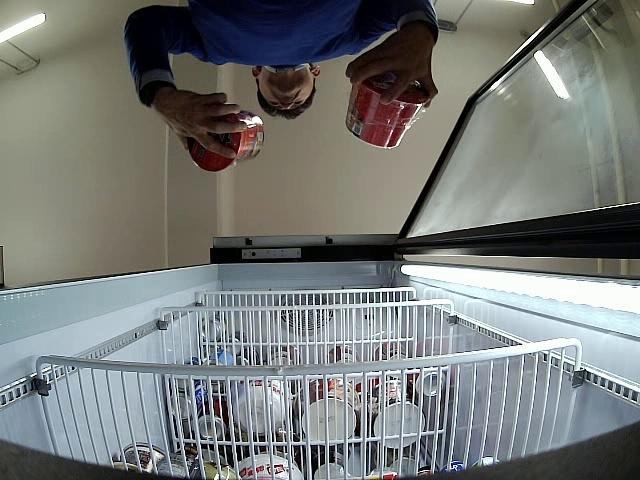00_hand: (346, 32, 437, 109), (165, 89, 247, 161)
01_shinRamen_L: (346, 70, 431, 149), (188, 107, 265, 173)
